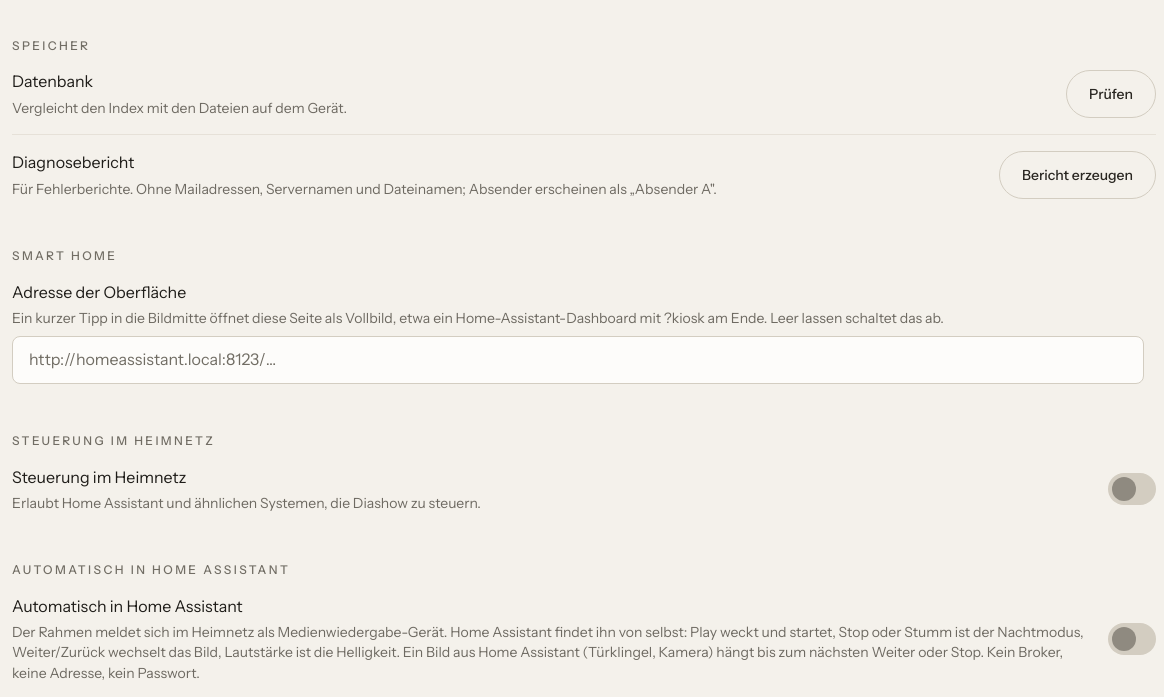
it: Smart Home › meldet eine Adresse, die das Backend verworfen hat
This screenshot has width=1164, height=697.
(page scrolled)
In the field with placeholder "http://homeassistant.local:8123/…": (578, 360) x1=12 y1=336 x2=1144 y2=384, type "homeassistant.local:8123"
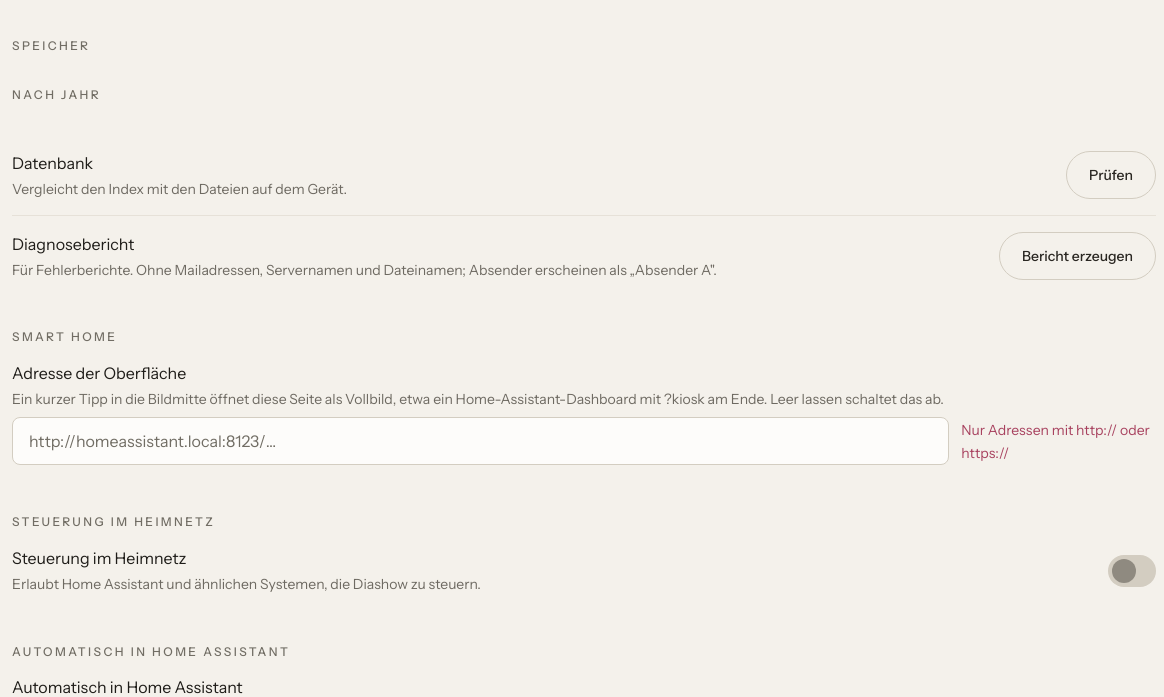
Result: the text "Nur Adressen mit http:// oder https://" is shown at x1=961 y1=421 x2=1150 y2=462
